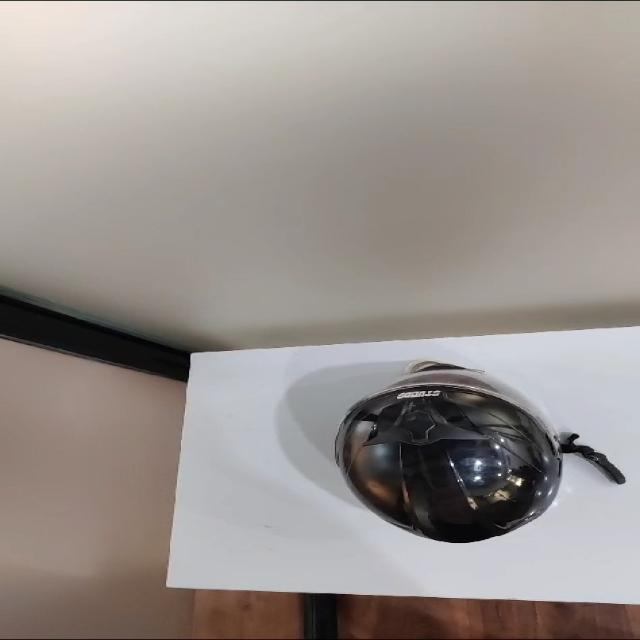helmet: (336, 361, 624, 543)
